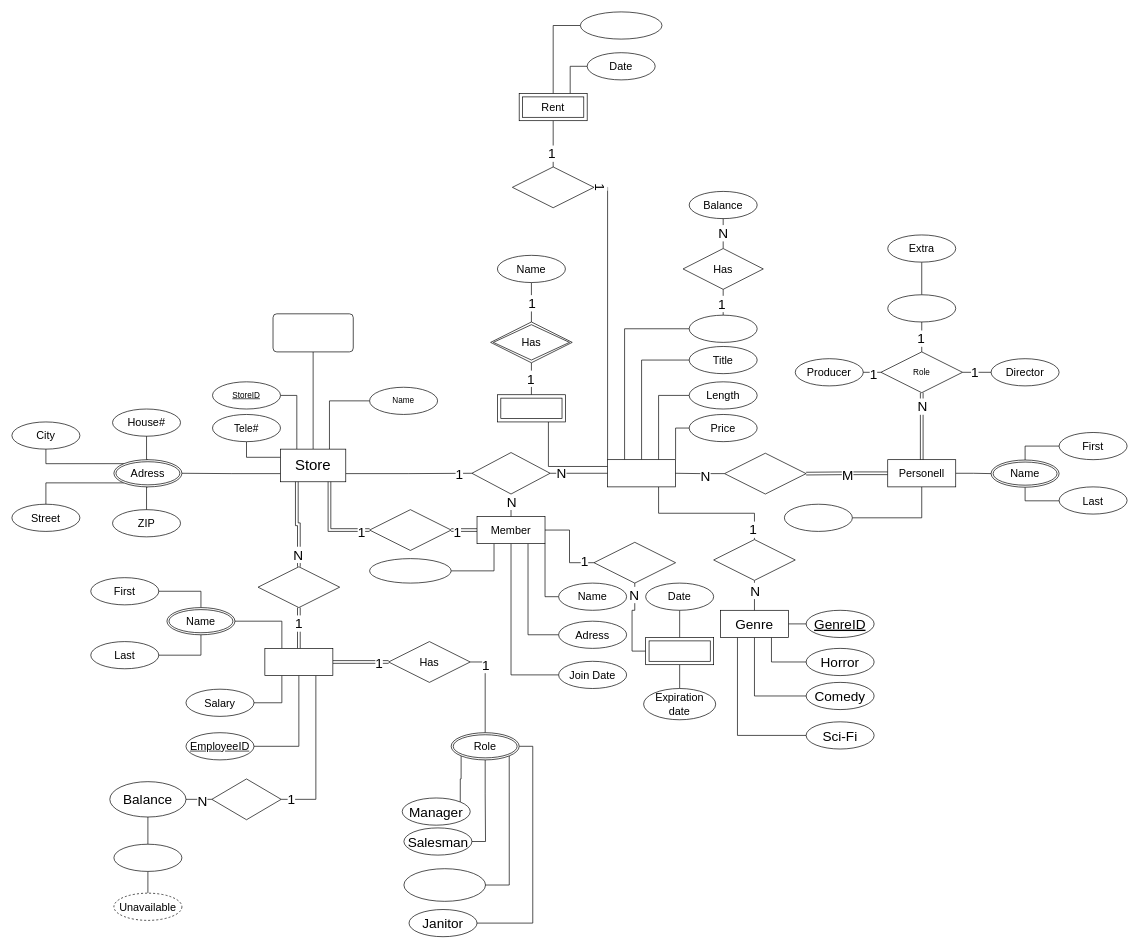
Some shapes in this 1139 by 949 pixel diagram are drawn without their labels. Here are the shapes that lost their labels. From the top down, the centre of each, then its label:
the point at 621,25: Return Date
the point at 553,187: Can
the point at 722,328: MovieID
the point at 921,308: Actor
the point at 312,332: Movie Company
the point at 531,408: Shelf
the point at 510,473: Offer
the point at 641,473: Movie
the point at 765,473: Worked
the point at 410,529: Of
the point at 818,517: ActorID
the point at 410,570: MemberID
the point at 634,562: Make
the point at 754,559: Has a
the point at 298,587: Work
the point at 298,662: Employee
the point at 679,651: Reservation
the point at 246,799: Check
the point at 147,857: Available
the point at 444,884: Store Clerk
